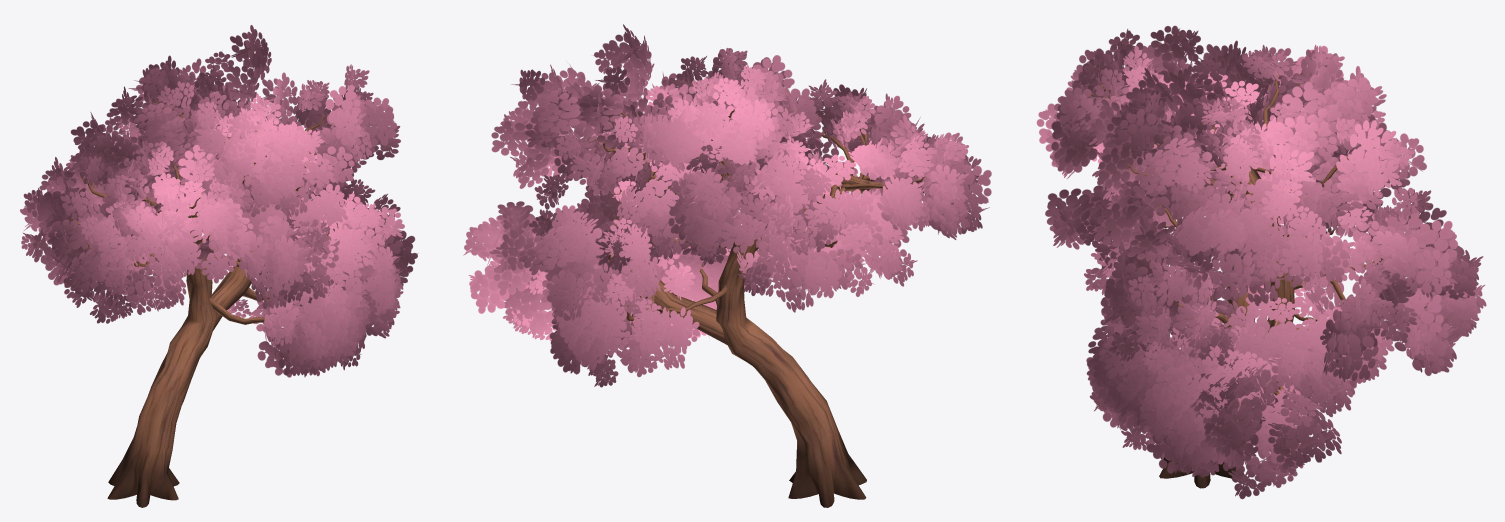
File: tree-wedding-3-mature.glb
3 renders of one model, left to right at view 1: azimuth 30°, elevation 25°; view 2: azimuth 150°, elevation 25°; view 3: azimuth 270°, elevation 25°, orthographic. The views are drawn at different scales.
Visible parts, largest first — view 1: CherryBlossom_3; view 2: CherryBlossom_3; view 3: CherryBlossom_3.
Part boxes in pixels (x1,y1,x2,y2): CherryBlossom_3: (20,25,417,507); CherryBlossom_3: (463,24,991,507); CherryBlossom_3: (1036,25,1486,499).
Bounding box in the file's own units: 6.93 × 6.05 × 5.44.
Materials: 2 (2 with a texture image).
